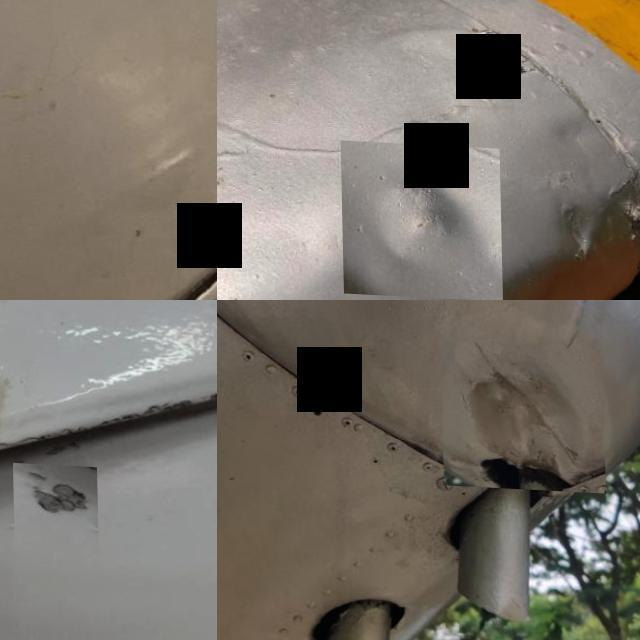Crack: (27, 55, 217, 300), (93, 300, 217, 450), (12, 460, 96, 546)
Dent: (338, 138, 501, 296), (440, 338, 604, 489), (533, 175, 618, 268), (566, 445, 608, 487)
